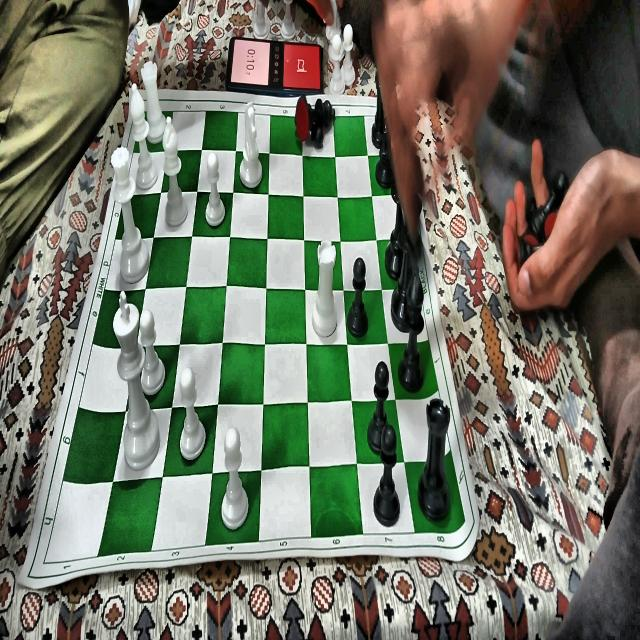BlackBishop: (399, 266, 427, 391)
BlackPawn: (372, 422, 402, 526), (367, 356, 394, 454), (346, 253, 372, 339)
BlackRook: (416, 396, 454, 523)
WhiteBishop: (126, 82, 159, 195), (160, 114, 189, 232)
WhiteKing: (110, 291, 162, 476)
WhiteKnight: (239, 100, 263, 191)
WhitePawn: (222, 427, 250, 530), (138, 307, 168, 398), (176, 370, 206, 459), (202, 146, 228, 232), (341, 22, 359, 90), (329, 34, 346, 93)
WhiteQueen: (110, 147, 151, 284)
WhiteRook: (312, 236, 340, 338), (138, 61, 169, 142)
